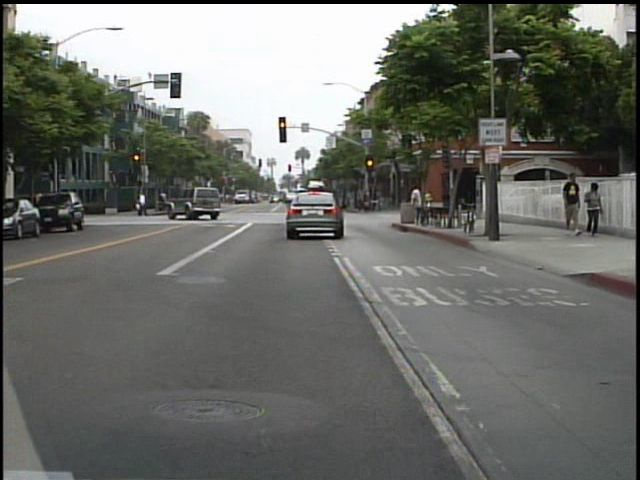person: (560, 166, 586, 237), (581, 180, 606, 242), (409, 180, 430, 226), (139, 187, 155, 220)
